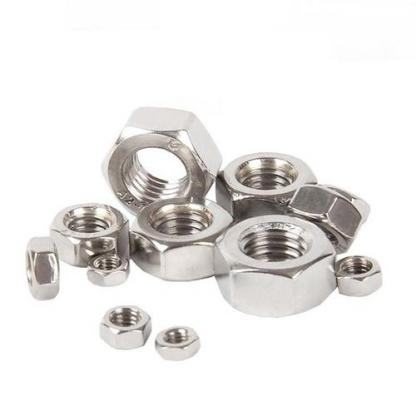FOD: (214, 213, 342, 319), (99, 104, 220, 216), (131, 196, 238, 284), (215, 150, 322, 225), (47, 202, 133, 267), (296, 181, 364, 254), (96, 302, 154, 349), (26, 231, 60, 307), (332, 254, 386, 301), (152, 322, 209, 364), (84, 252, 133, 288)
